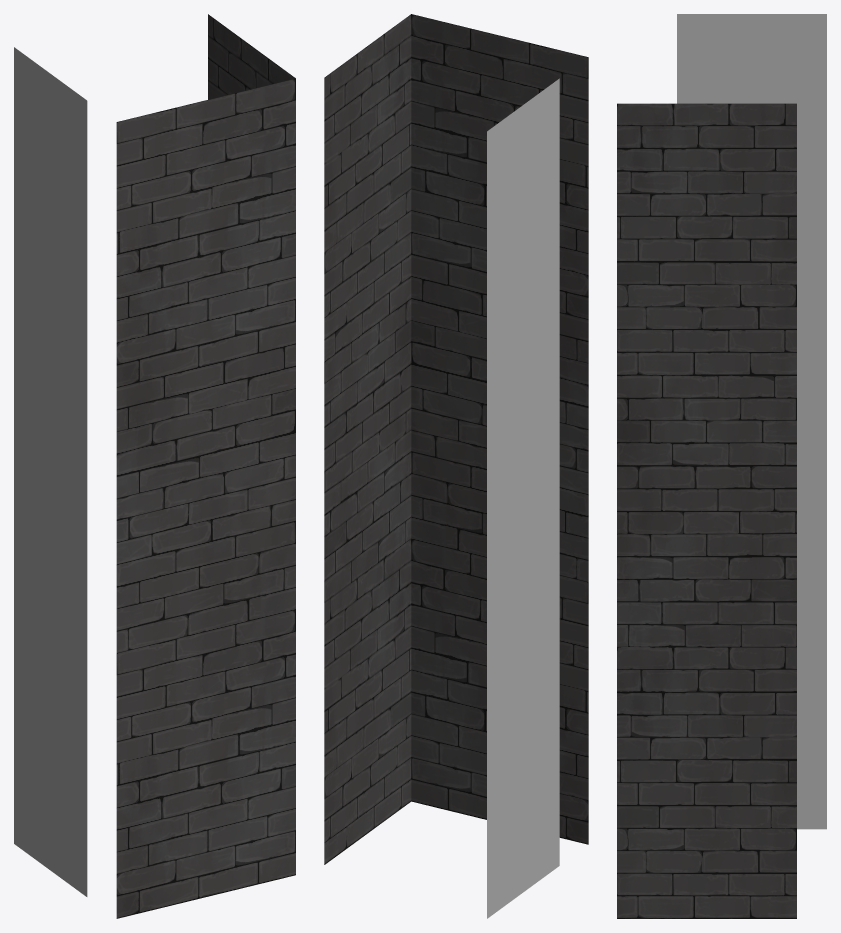
File: WornBrick_90Angle_L.gltf
The picture shows the model from 3 angles, left to right: view 1: azimuth 30°, elevation 25°; view 2: azimuth 150°, elevation 25°; view 3: azimuth 270°, elevation 25°; orthographic projection. The views are drawn at different scales.
Parts seen in each view (by area): view 1: WornBrick_90Angle_L; view 2: WornBrick_90Angle_L; view 3: WornBrick_90Angle_L.
Boxes of the visible parts, x1,y1,x2,y2 form: WornBrick_90Angle_L: [14, 14, 295, 918]; WornBrick_90Angle_L: [324, 14, 588, 918]; WornBrick_90Angle_L: [617, 14, 826, 918].
Size of what is drawn, in the model's own units: 0.7062 by 3 by 0.7.
